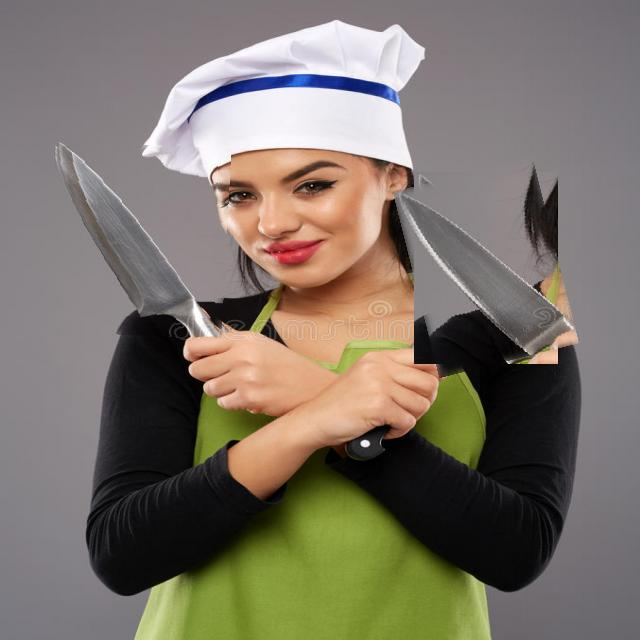knife: (51, 142, 229, 337), (403, 165, 569, 371)
